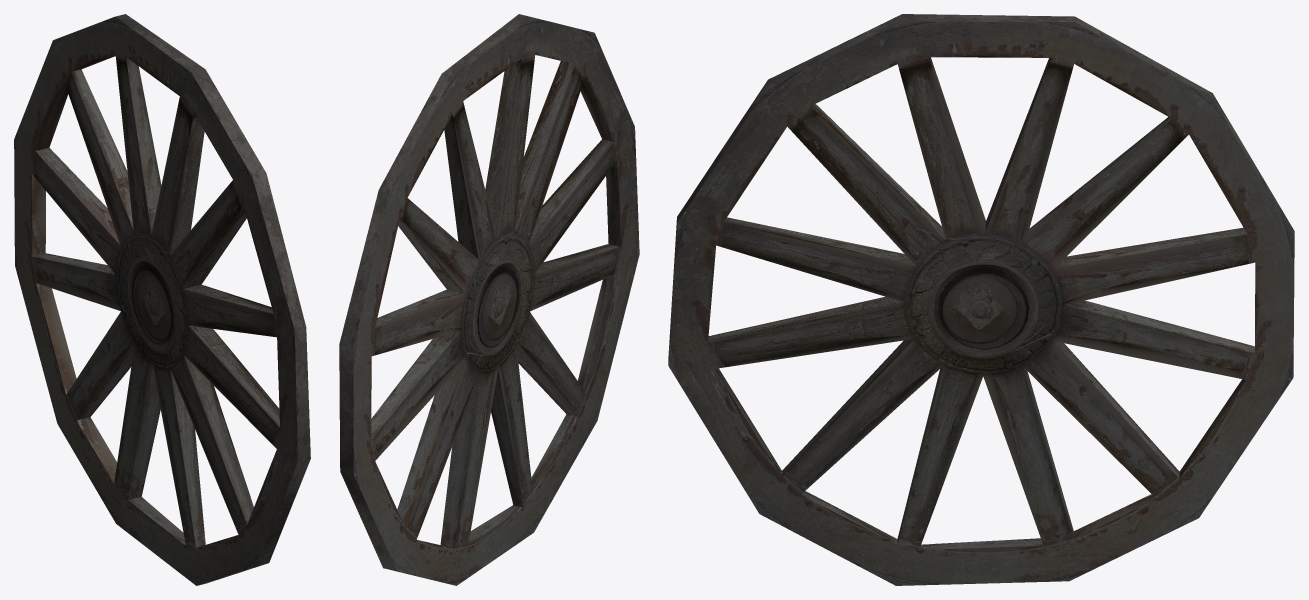
File: Wheel_LOD02.fbx
The picture shows the model from 3 angles, left to right: view 1: azimuth 30°, elevation 25°; view 2: azimuth 150°, elevation 25°; view 3: azimuth 270°, elevation 25°; orthographic projection. The views are drawn at different scales.
Parts seen in each view (by area): view 1: Mesh Object; view 2: Mesh Object; view 3: Mesh Object.
Part boxes in pixels (x1,y1,x2,y2): Mesh Object: [14, 14, 310, 585]; Mesh Object: [339, 14, 639, 585]; Mesh Object: [668, 14, 1294, 585].
Size of the model in its own units: 0.0474 by 1.26 by 1.26.
